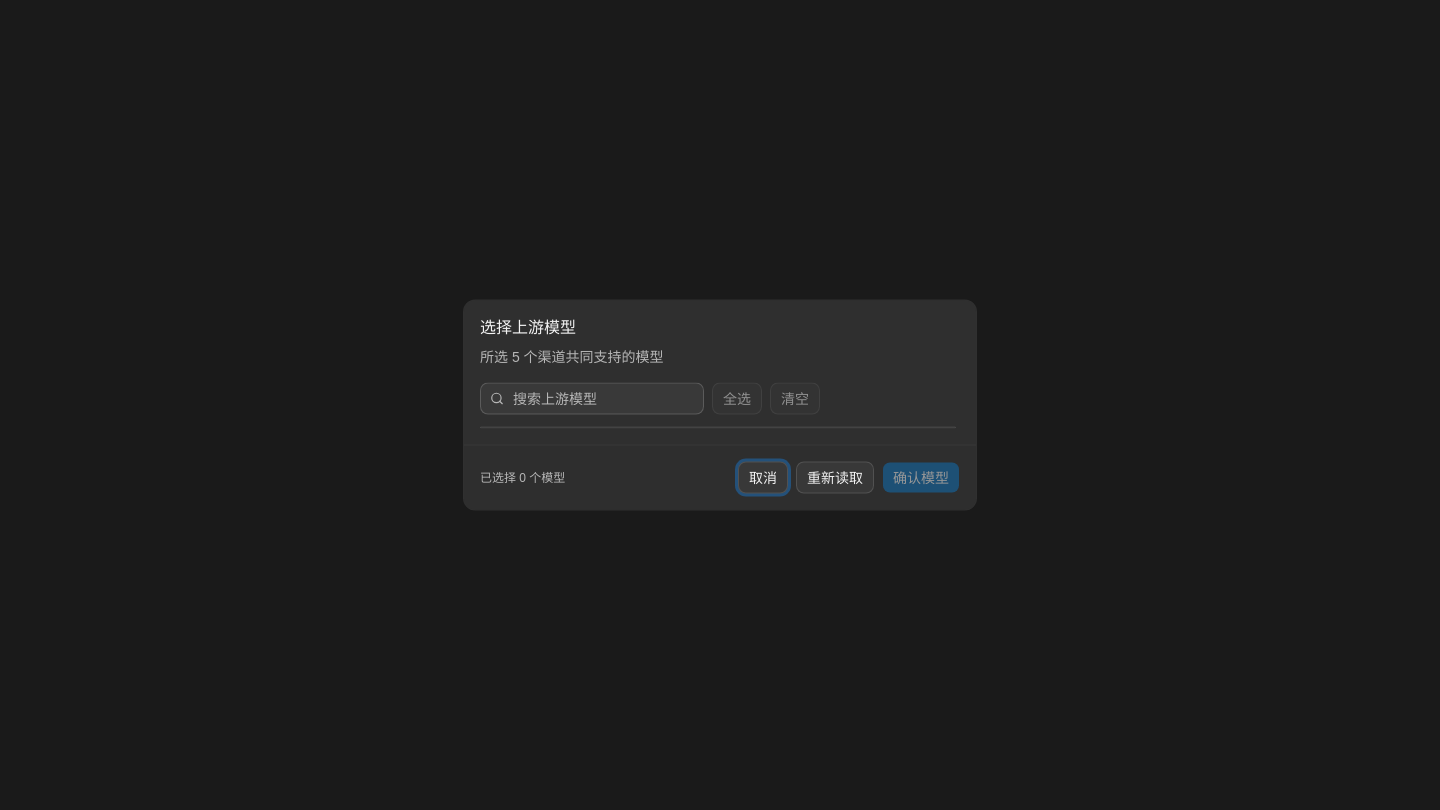
Scenario: 批量任一读取失败时取消同批请求且不启动剩余渠道，重试重新读取完整范围
Click the button "重新读取" at (835, 478), box [796,462,874,494]
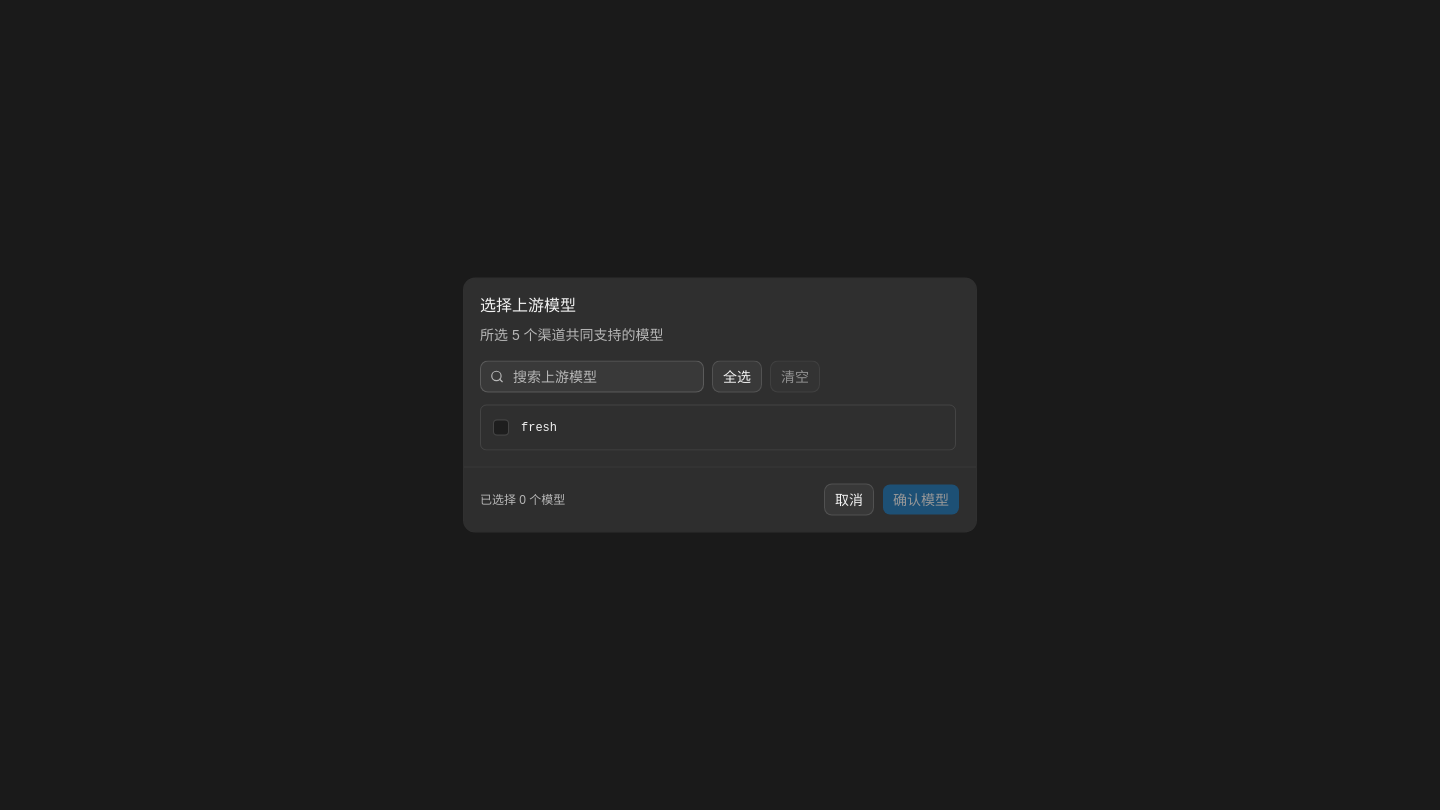
Expected: the checkbox named "fresh" is shown, [493,420,509,436]
